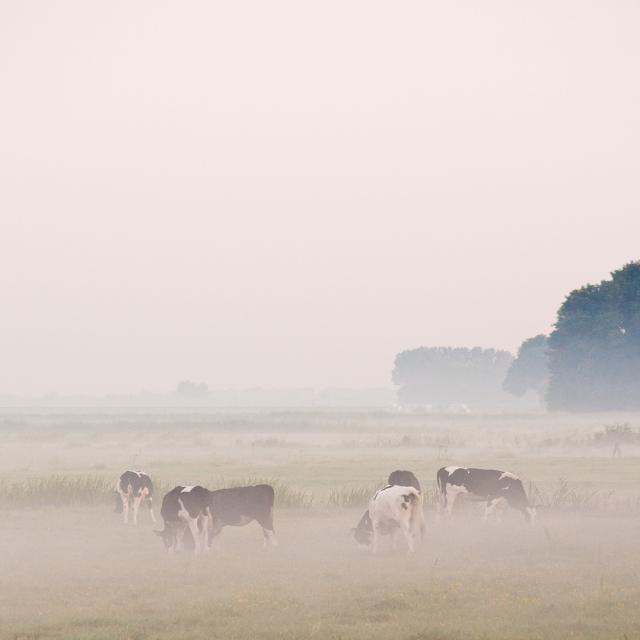Cattle: (114, 466, 542, 557)
